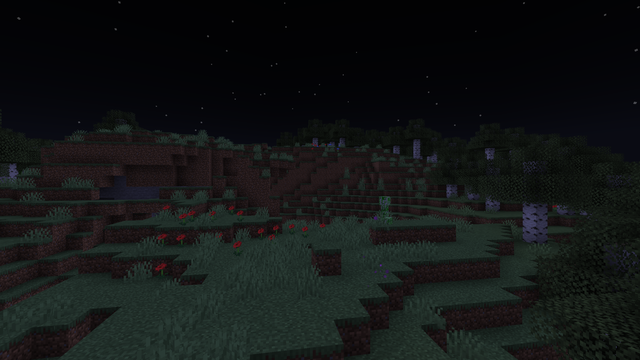creepers: (378, 195, 391, 224)
